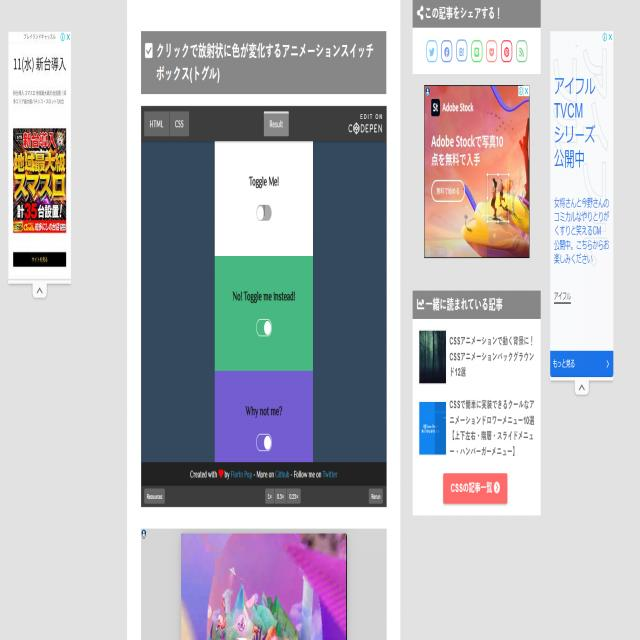checkbox: (144, 39, 154, 63)
toggle: (255, 318, 273, 339), (255, 431, 273, 452), (255, 205, 273, 223)
